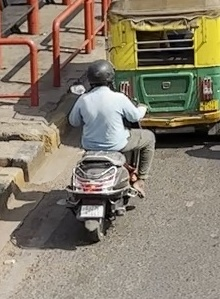BikeWithRider: (52, 55, 160, 245)
Helmet: (81, 56, 120, 93)
